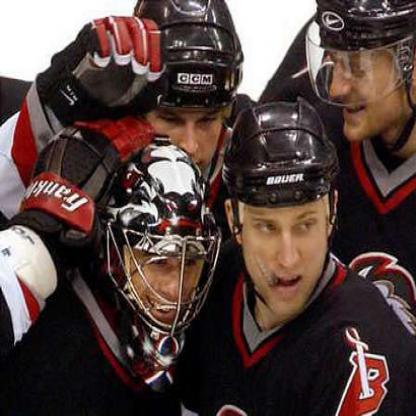face: (241, 121, 330, 315), (135, 17, 226, 196), (125, 181, 208, 345), (321, 1, 413, 148)
